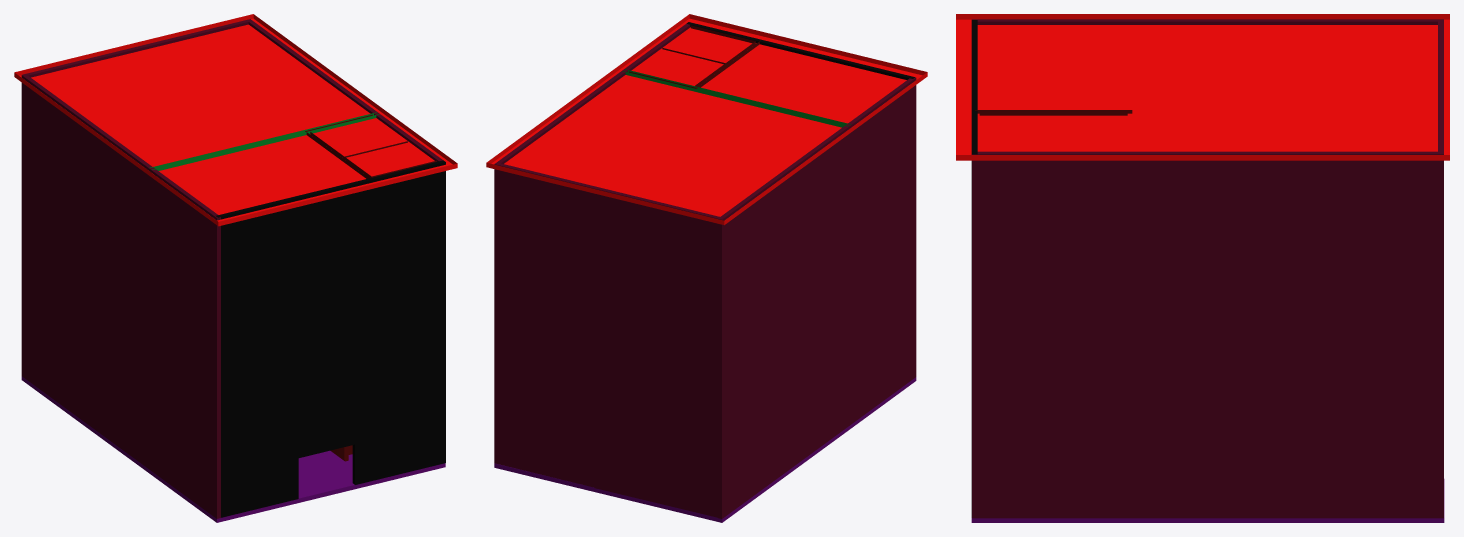
File: Casa.FBX
The picture shows the model from 3 angles, left to right: view 1: azimuth 30°, elevation 25°; view 2: azimuth 150°, elevation 25°; view 3: azimuth 270°, elevation 25°; orthographic projection. The views are drawn at different scales.
Visible parts, largest first — view 1: PAREDES_Final, Techo_Final, Suelo005_Final, ParedPuertasCasas001_Final, ascensor001_Final; view 2: PAREDES_Final, Techo_Final, Suelo005_Final, ParedPuertasCasas001_Final, ascensor001_Final; view 3: PAREDES_Final, Techo_Final, Suelo005_Final, ascensor001_Final.
Part boxes in pixels (left/top/right/bottom): PAREDES_Final: left=21, top=19, right=445, bottom=518; Techo_Final: left=14, top=14, right=457, bottom=226; Suelo005_Final: left=21, top=376, right=445, bottom=522; ParedPuertasCasas001_Final: left=149, top=112, right=379, bottom=170; ascensor001_Final: left=305, top=114, right=436, bottom=461; PAREDES_Final: left=494, top=22, right=916, bottom=518; Techo_Final: left=486, top=14, right=927, bottom=225; Suelo005_Final: left=494, top=377, right=916, bottom=522; ParedPuertasCasas001_Final: left=622, top=69, right=851, bottom=127; ascensor001_Final: left=629, top=25, right=760, bottom=88; PAREDES_Final: left=971, top=19, right=1443, bottom=518; Techo_Final: left=956, top=14, right=1449, bottom=160; Suelo005_Final: left=971, top=479, right=1444, bottom=522; ascensor001_Final: left=975, top=110, right=1132, bottom=115.
Size of the model in its own units: 1585 by 1944 by 2343.
